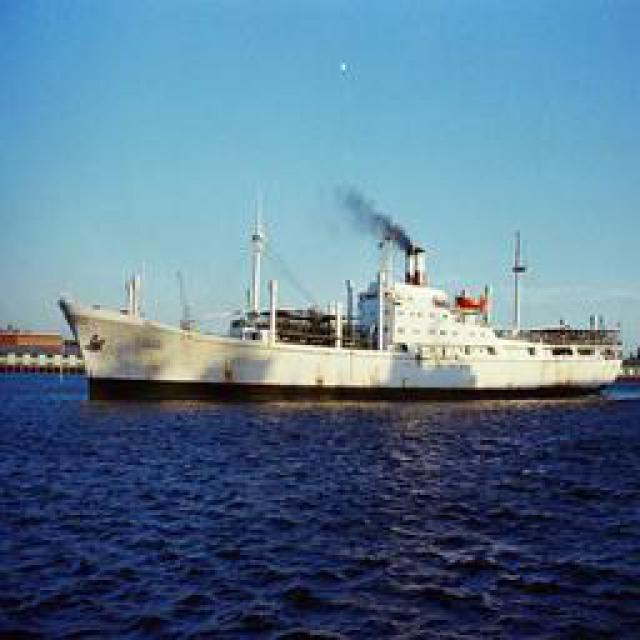Ship: (58, 203, 640, 399)
